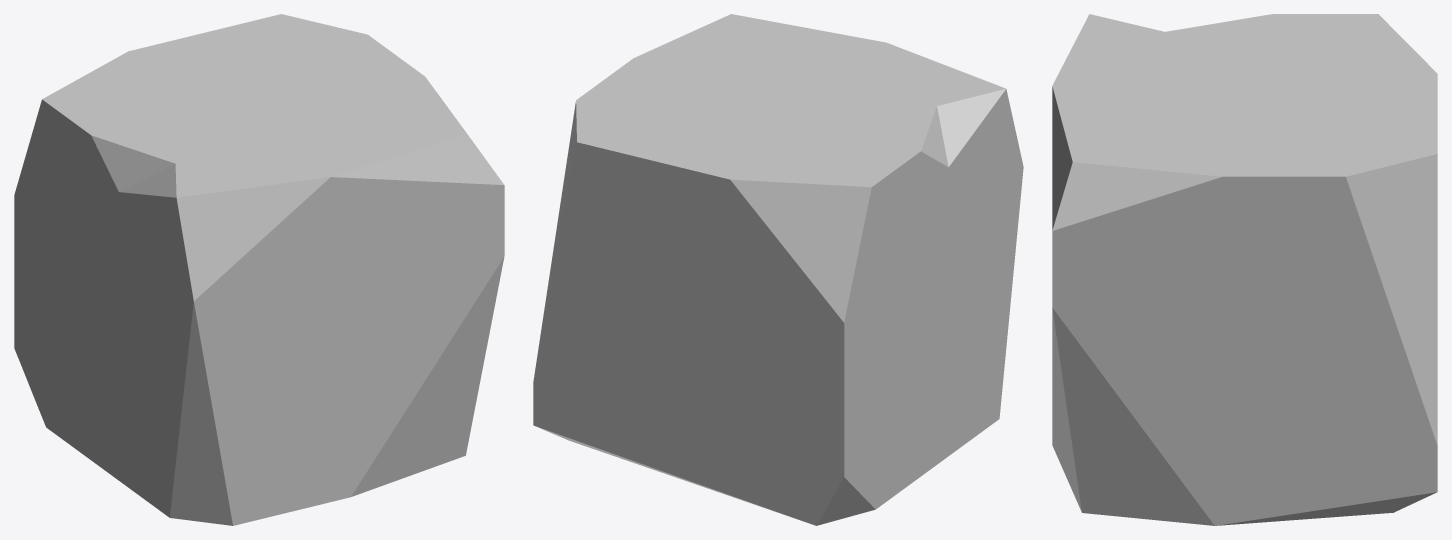
File: Block.fbx
3 views of the same model, side by side, from view 1: azimuth 30°, elevation 25°; view 2: azimuth 150°, elevation 25°; view 3: azimuth 270°, elevation 25° (orthographic). The views are drawn at different scales.
Parts seen in each view (by area): view 1: Block; view 2: Block; view 3: Block.
Boxes of the visible parts, box(x1,y1,x2,y2) form: Block: box(14, 14, 504, 525); Block: box(533, 14, 1023, 525); Block: box(1052, 14, 1437, 525).
Size of the model in its own units: 200 by 200 by 200.
